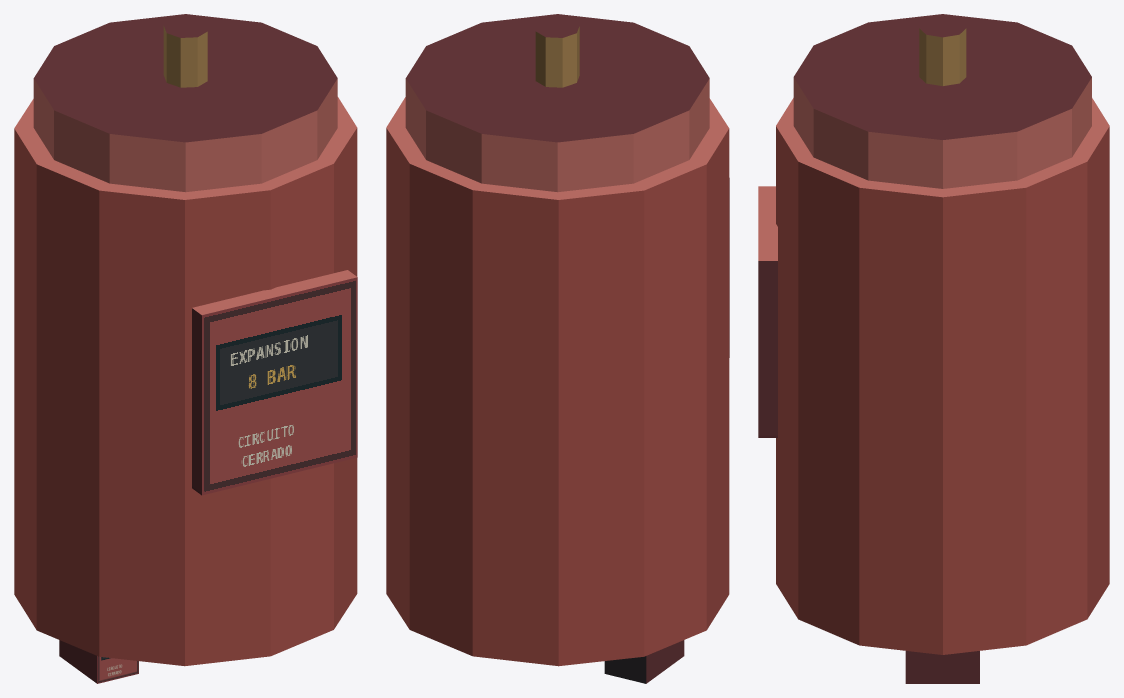
The model's file is tanque_expansion.glb.
The picture shows the model from 3 angles, left to right: view 1: azimuth 30°, elevation 25°; view 2: azimuth 150°, elevation 25°; view 3: azimuth 270°, elevation 25°; orthographic projection.
Visible parts, largest first — view 1: CALDERA_PROPS; view 2: CALDERA_PROPS; view 3: CALDERA_PROPS.
Part boxes in pixels (bbox=[...]): CALDERA_PROPS: bbox=[14, 14, 357, 683]; CALDERA_PROPS: bbox=[386, 14, 729, 683]; CALDERA_PROPS: bbox=[758, 14, 1109, 683].
Size of the model in its own units: 0.4587 by 0.9053 by 0.4774.
Materials: 1 (1 with a texture image).
